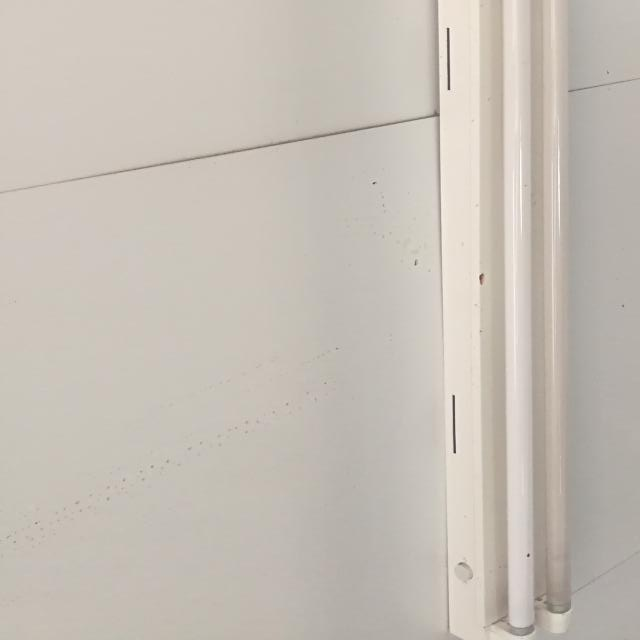fluorescent tube: (415, 0, 617, 635)
